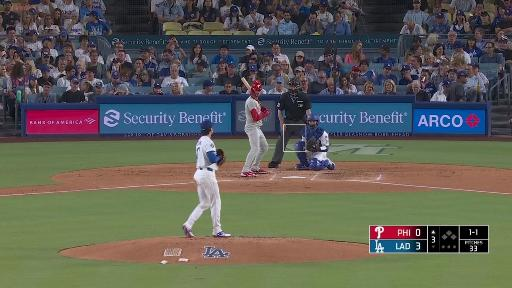pitcher: (181, 121, 231, 239)
